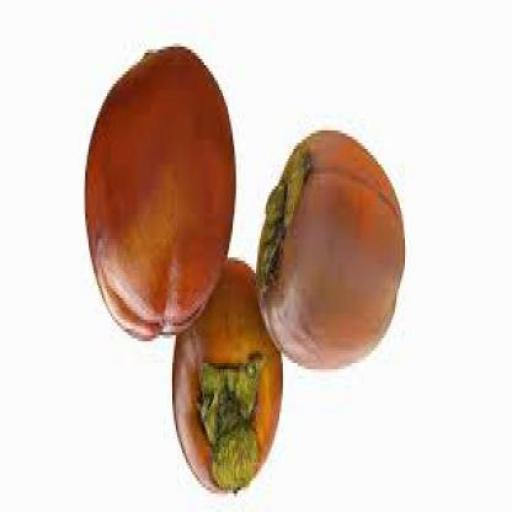biodegradable: (86, 46, 236, 344), (259, 136, 407, 372), (174, 261, 286, 502)
